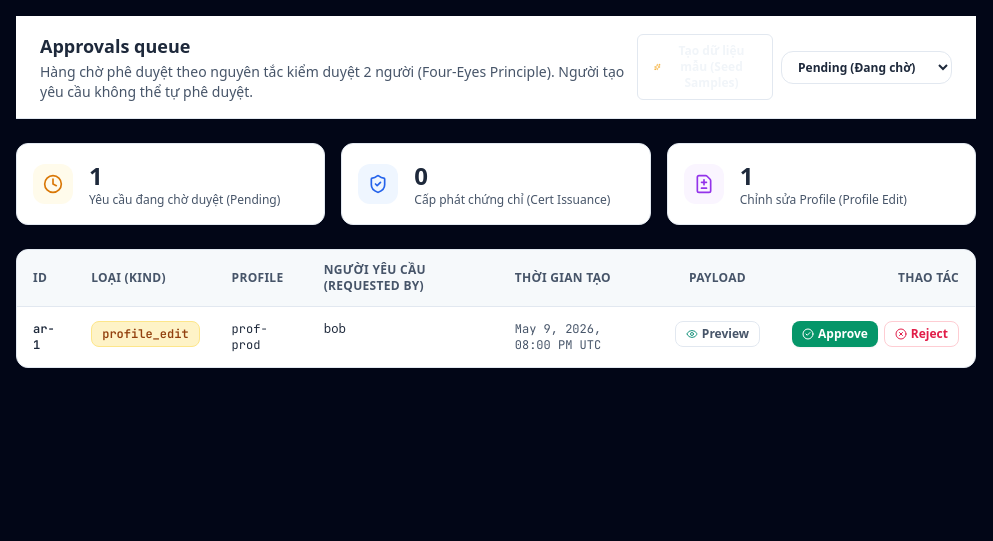
ApprovalsPage › A-5 ProfileEdit kind renders field diff with changed-only rows
The image size is (993, 541).
Click the button with test id "approvals-preview-toggle-ar-1".
click(717, 334)  # box [675,321,760,347]
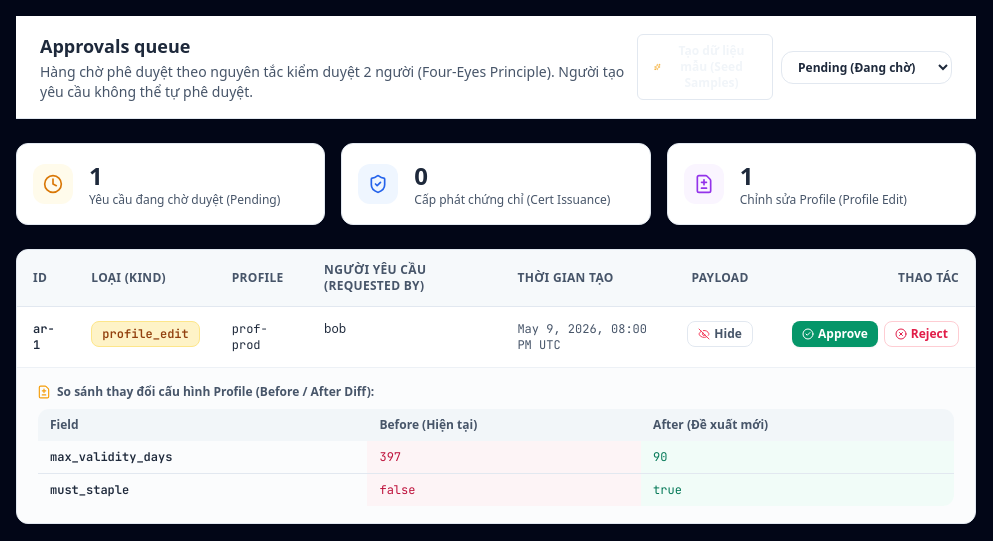
Check: the table with test id "approval-profile-edit-diff" is shown, box [37,408,955,507]
Check: the row with test id "approval-profile-edit-row-must_staple" is shown, box [38,474,954,506]
Check: the row with test id "approval-profile-edit-row-max_validity_days" is shown, box [38,441,954,474]
